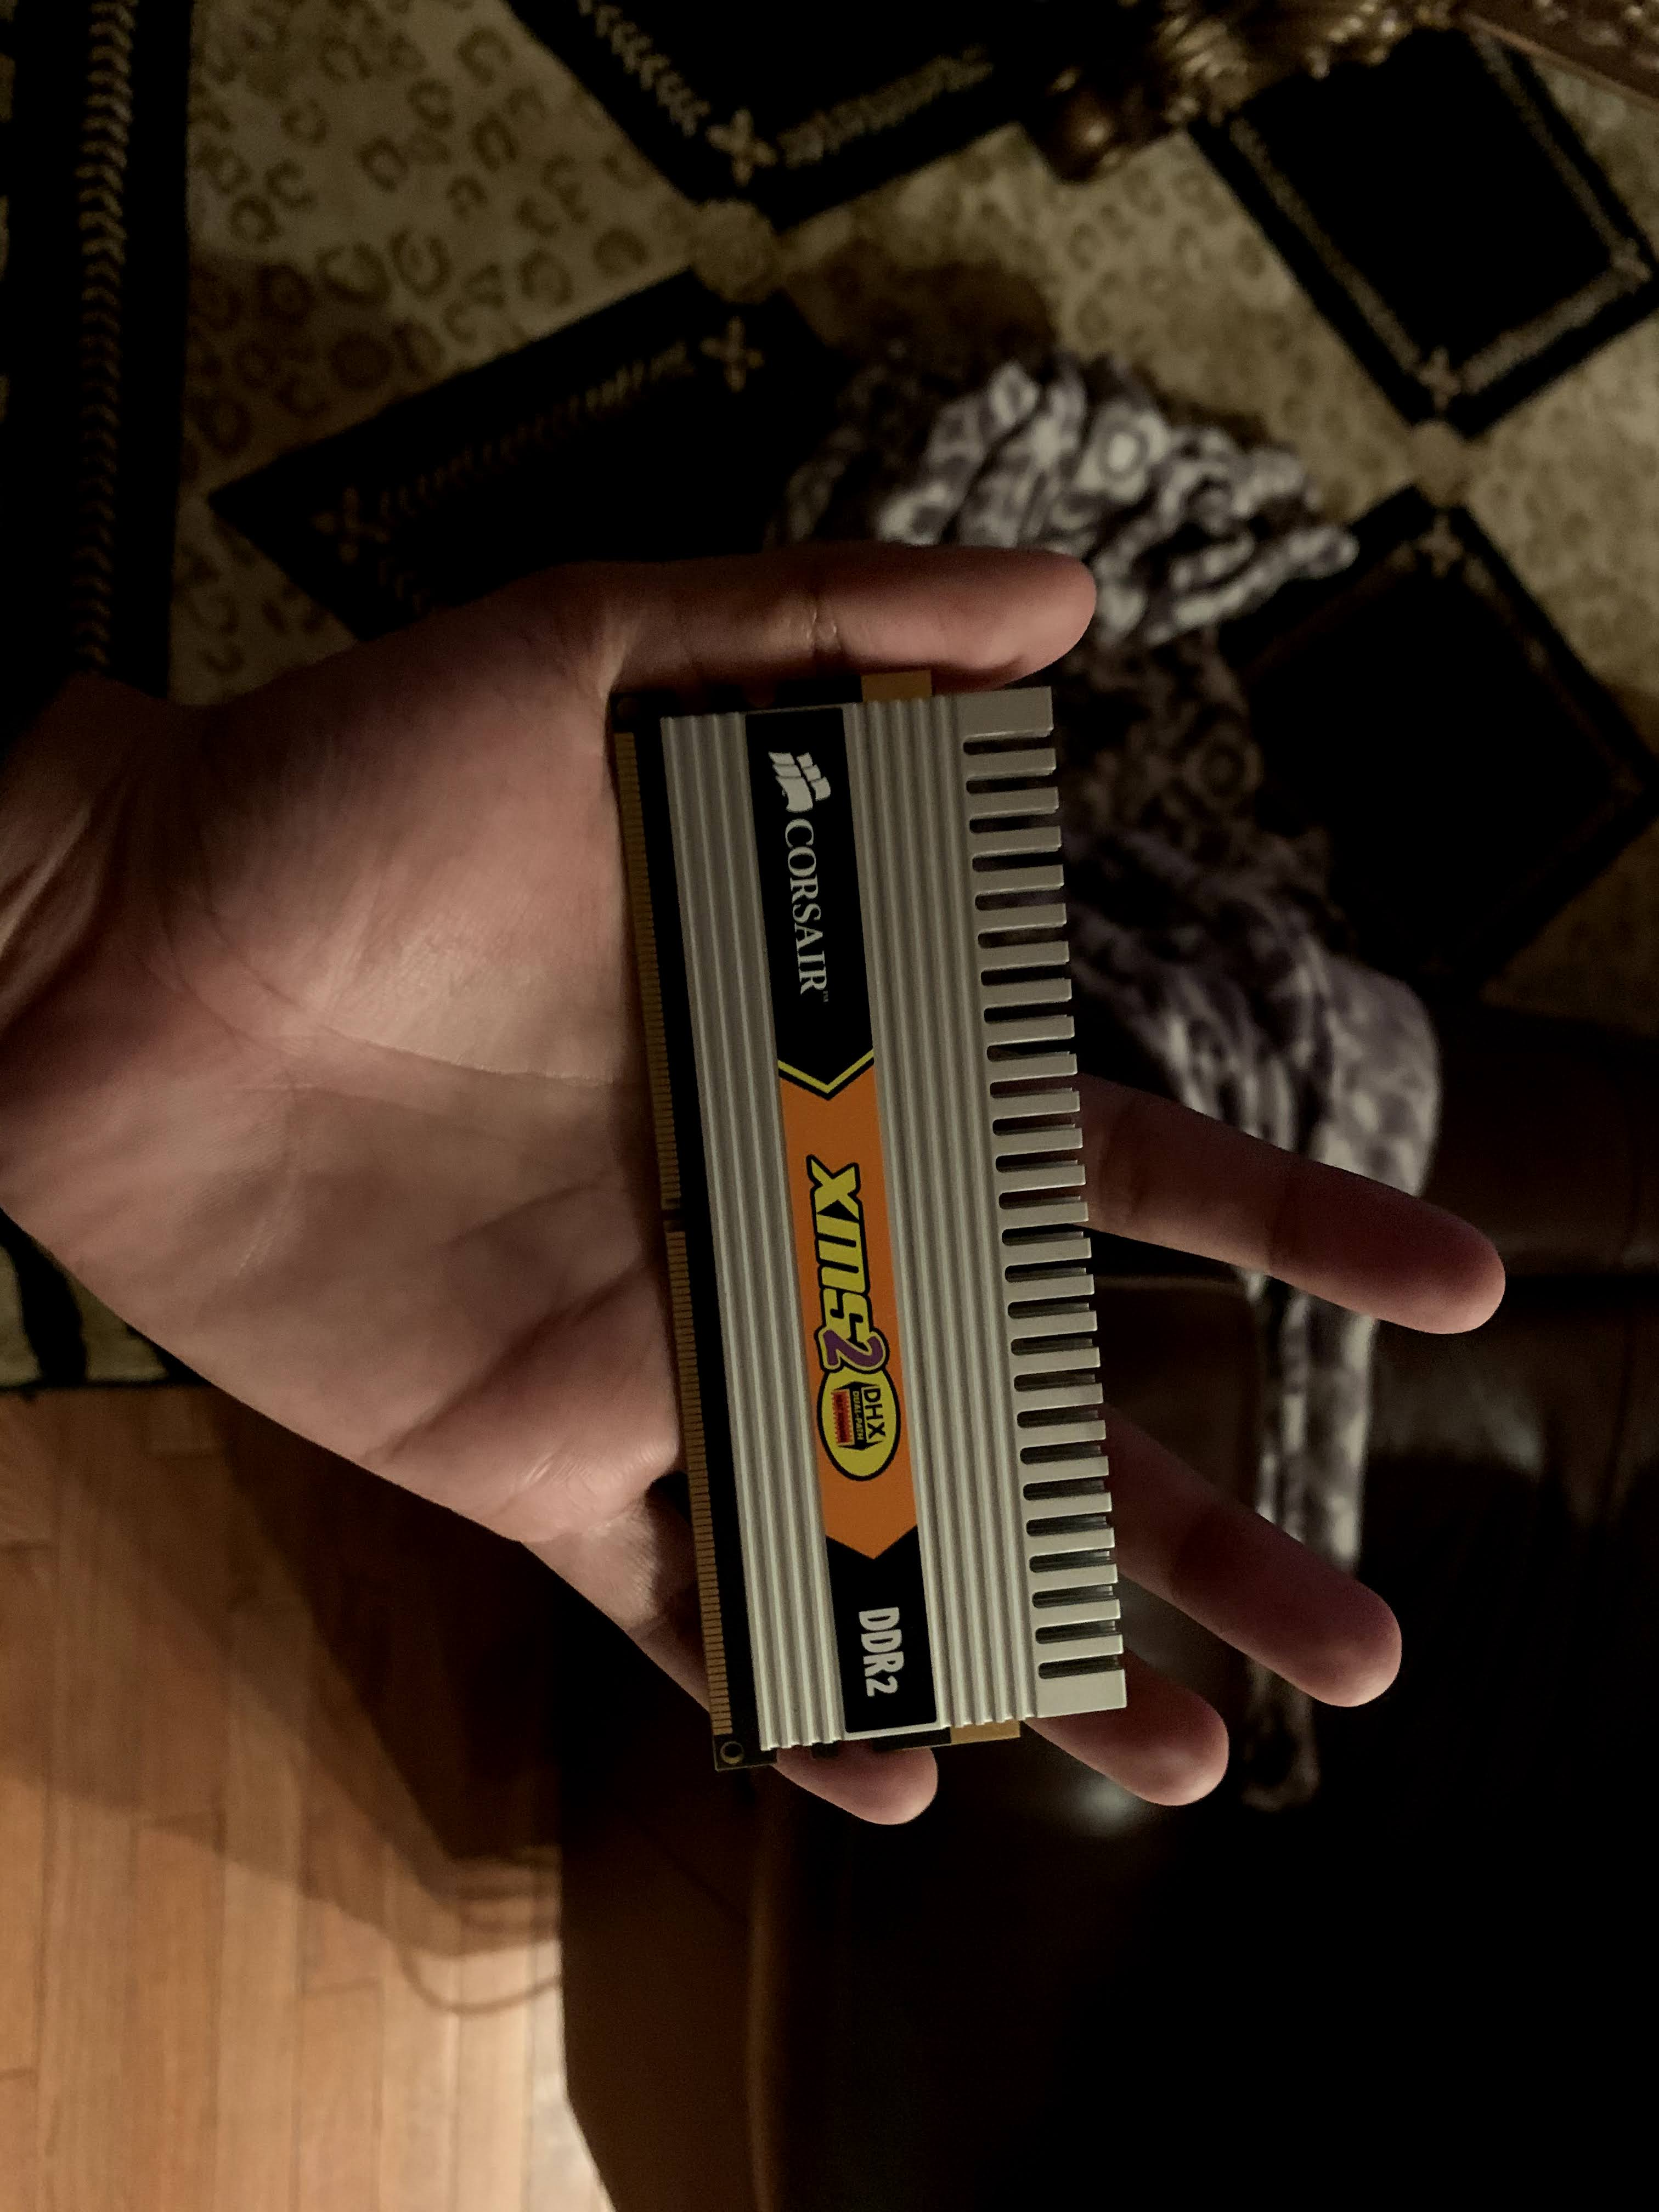Space-debris-medium: (620, 686, 1190, 1770)
